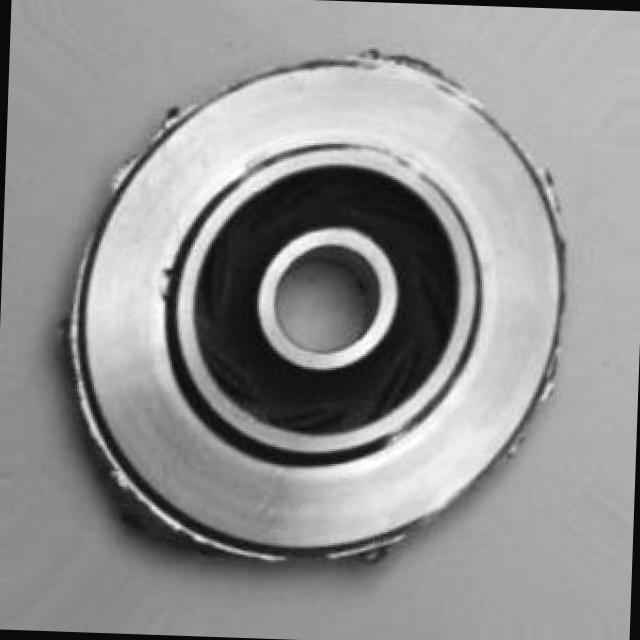Defect: (110, 474, 169, 540)
